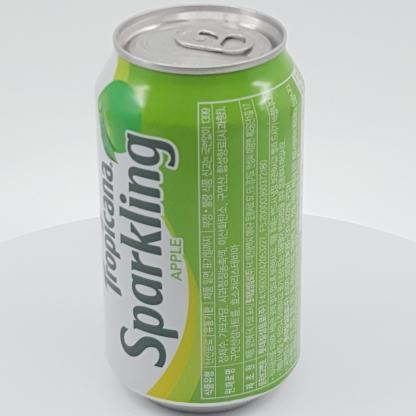-------------355ML: (93, 4, 306, 414)
